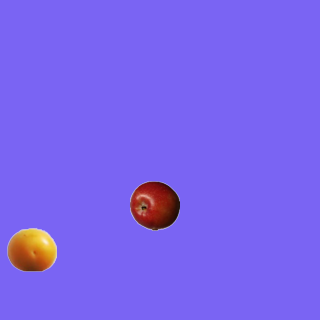Apple Braeburn: (129, 180, 179, 230)
Cherry Wax Yellow: (6, 224, 56, 274)
